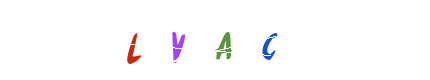A: (176, 0, 256, 80)
C: (183, 0, 263, 80)
L: (92, 0, 172, 80)
V: (175, 0, 255, 80)
